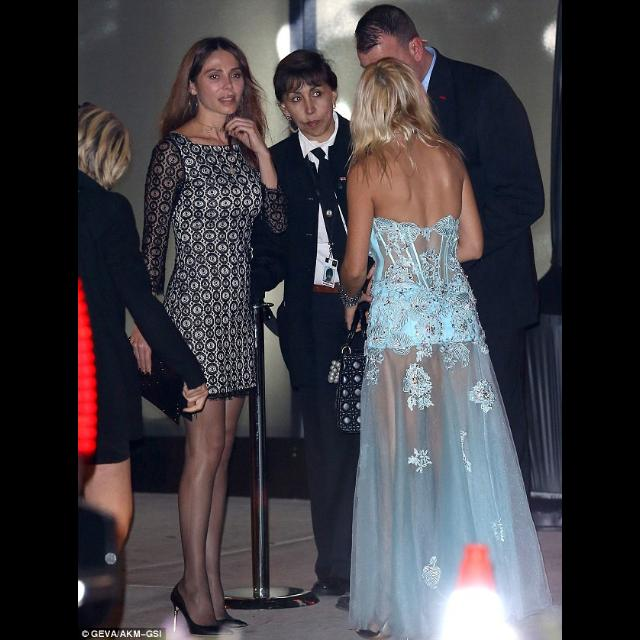head: (356, 3, 426, 93), (274, 50, 340, 138), (185, 37, 248, 117), (358, 57, 418, 133), (78, 104, 130, 188)
person: (350, 2, 550, 618), (240, 42, 412, 620)
